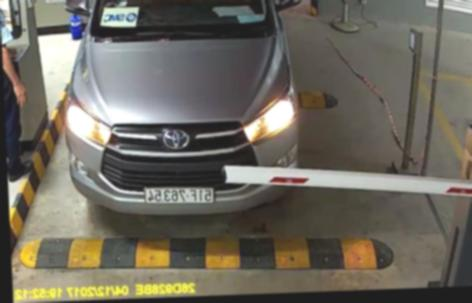License_Plate: (141, 183, 216, 208)
